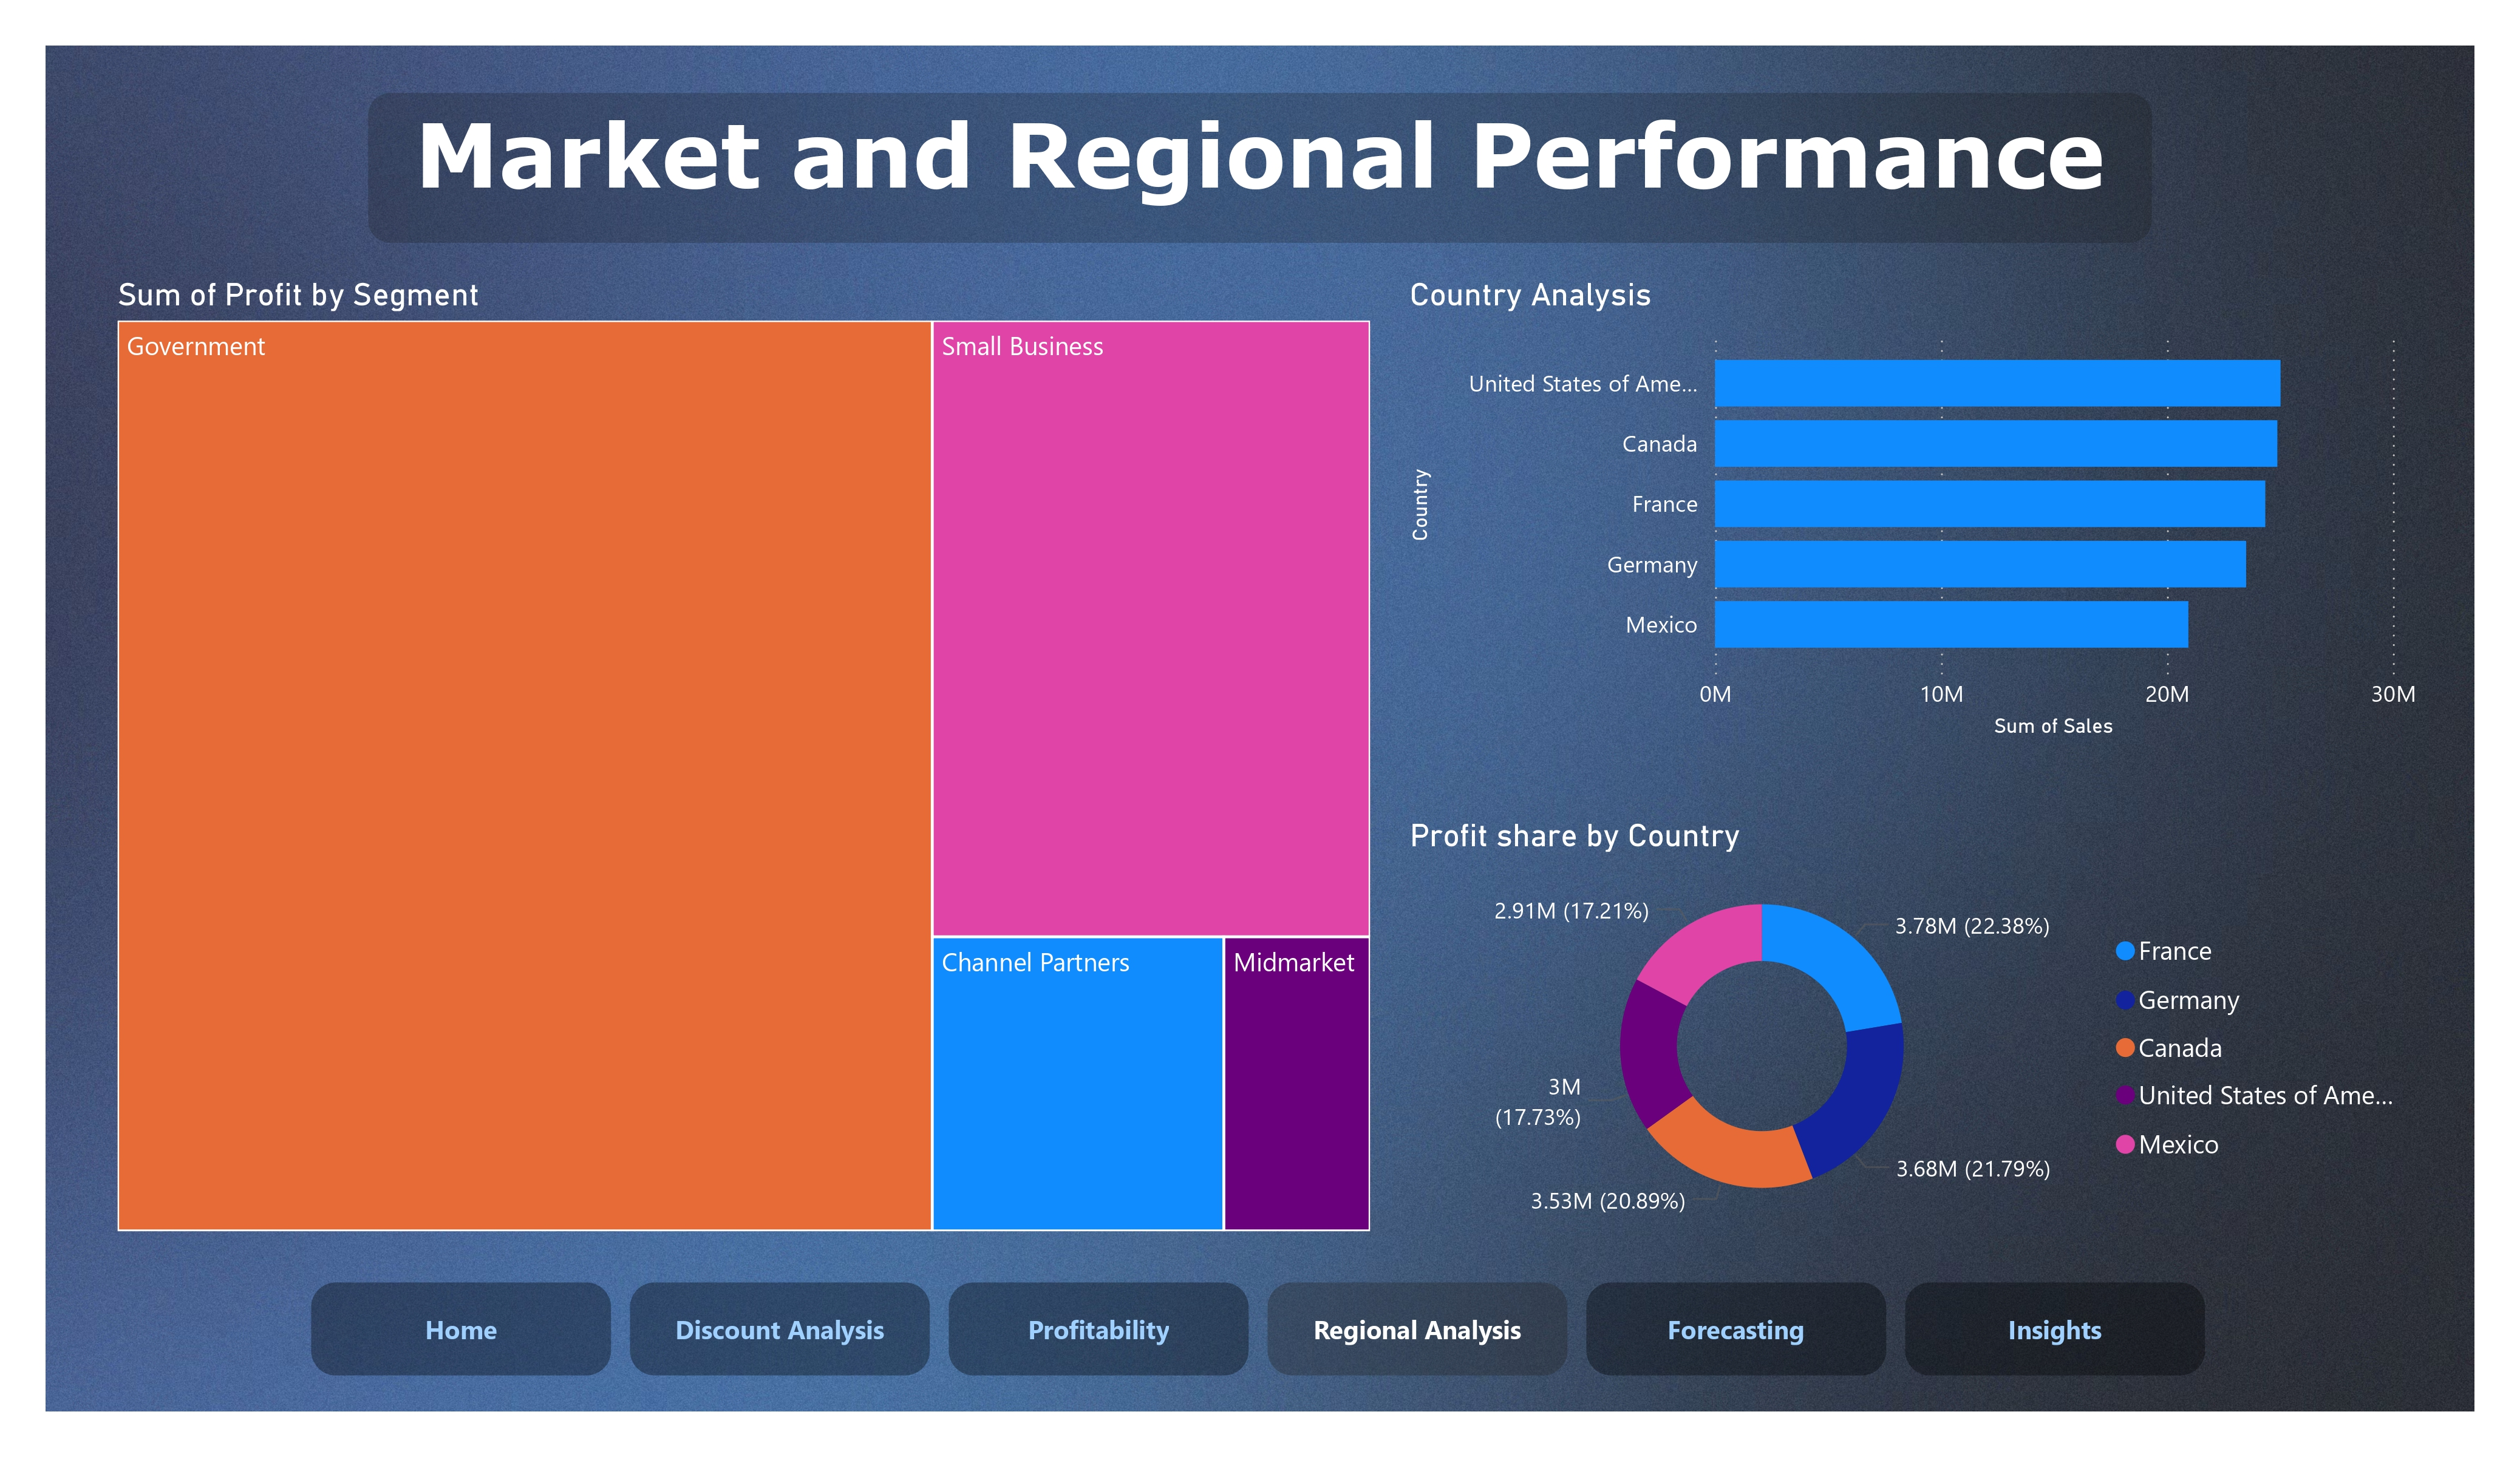

The dashboard page shown, as its layout file describes it:
{"tool":"powerbi","page":{"name":"Regional Analysis","canvas":[1280,720],"ordinal":3},"visuals":[{"type":"shape","box":[170.2,24.7,940,79.6],"z":0},{"type":"barChart","title":"Country Analysis","fields":{"Category":["financials.Country"],"Y":["Sum(financials.Sales)"]},"box":[713.6,120.8,540.7,249.7],"z":1000},{"type":"treemap","fields":{"Group":["financials.Segment"],"Values":["Sum(financials.Profit)"]},"box":[32.9,120.8,669.6,509.1],"z":2000},{"type":"donutChart","title":"Profit share by Country","fields":{"Category":["financials.Country"],"Y":["Sum(financials.Profit)"]},"box":[713.6,406.2,540.7,223.7],"z":3000},{"type":"pageNavigator","box":[140,651.8,1000.3,49.4],"z":4000}]}

Visuals, with their boxes on the page's 1280x720 design canvas (x1, y1, x2, y2). These are canvas units, not pixel positions in the 2520x1457 screenshot, which may show the page scaled, cropped or inside an application window:
shape: 170:25:1110:104
"Country Analysis" barChart: 714:121:1254:370
treemap - financials.Segment x Sum(financials.Profit): 33:121:702:630
"Profit share by Country" donutChart: 714:406:1254:630
pageNavigator: 140:652:1140:701
